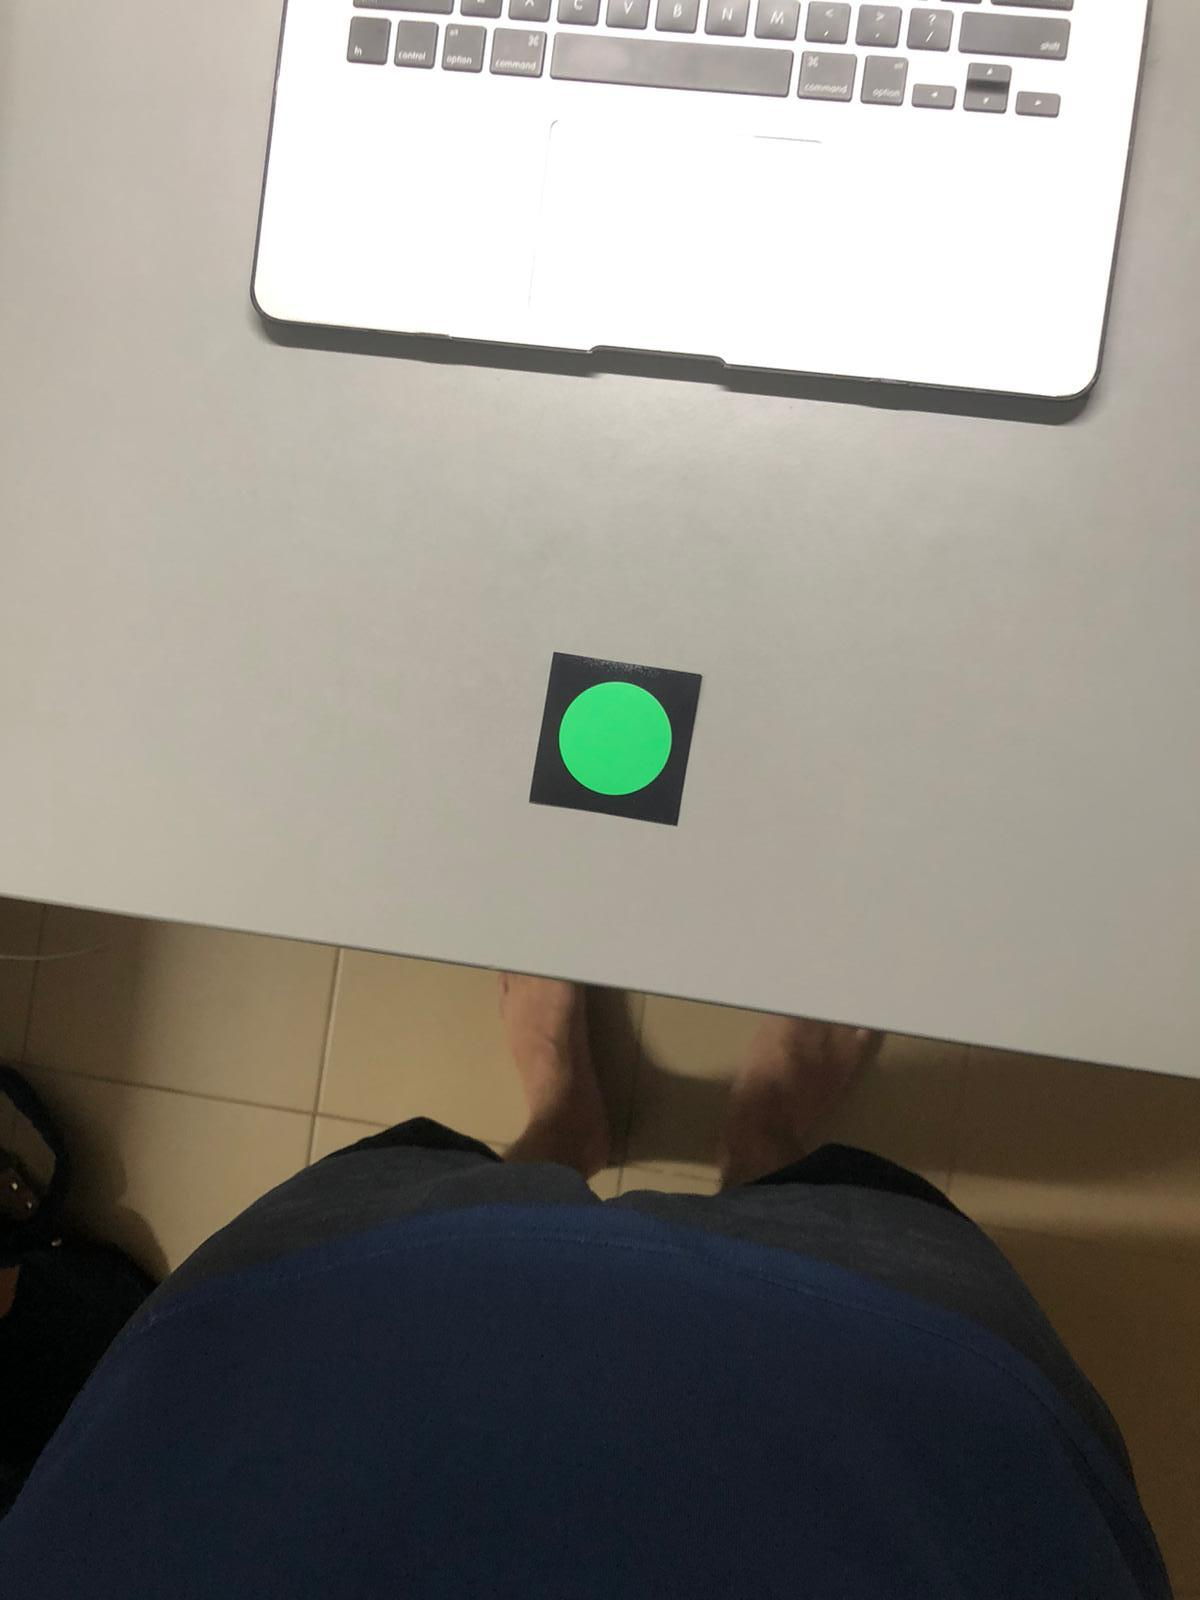Circle: (534, 656, 689, 829)
